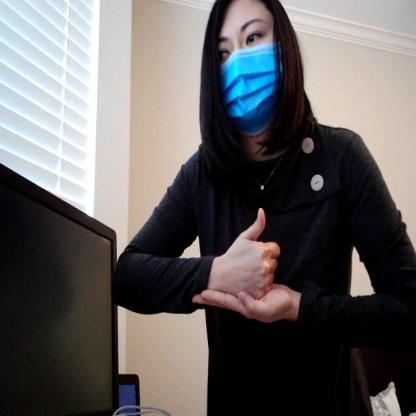help: (190, 202, 302, 326)
